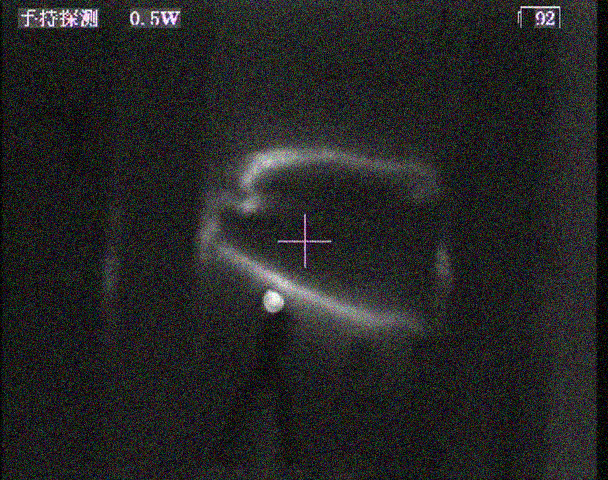my: (260, 288, 288, 316)
